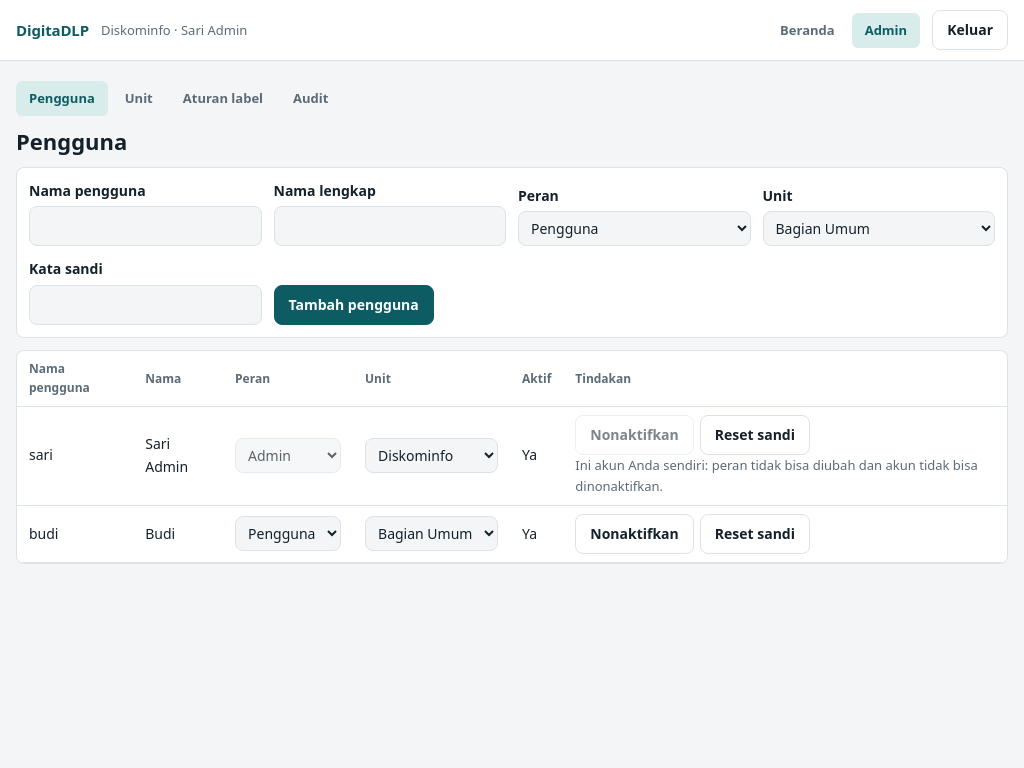
Scenario: 409 from server is shown
This screenshot has width=1024, height=768.
Check: the text "budi" is shown, box left=17, top=505, right=133, bottom=562
Step 1. Click the 2nd button "Nonaktifkan" → x=635, y=534, box left=575, top=514, right=694, bottom=554
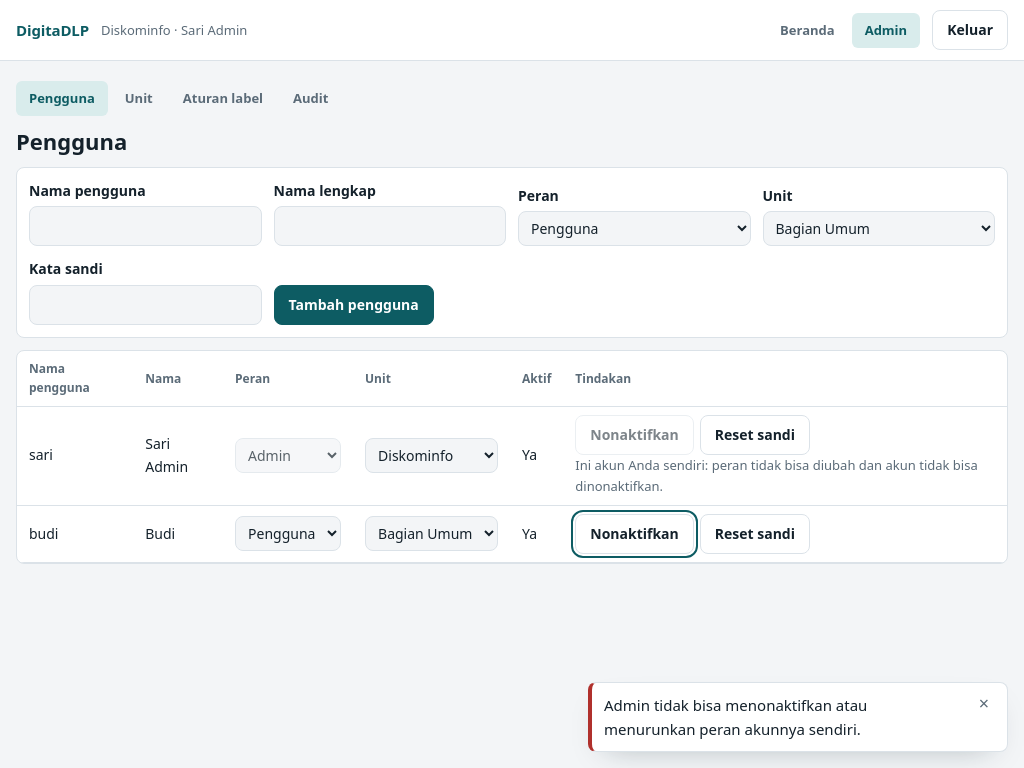
Check: the message shows "Admin tidak bisa menonaktifkan", box left=604, top=695, right=867, bottom=739
